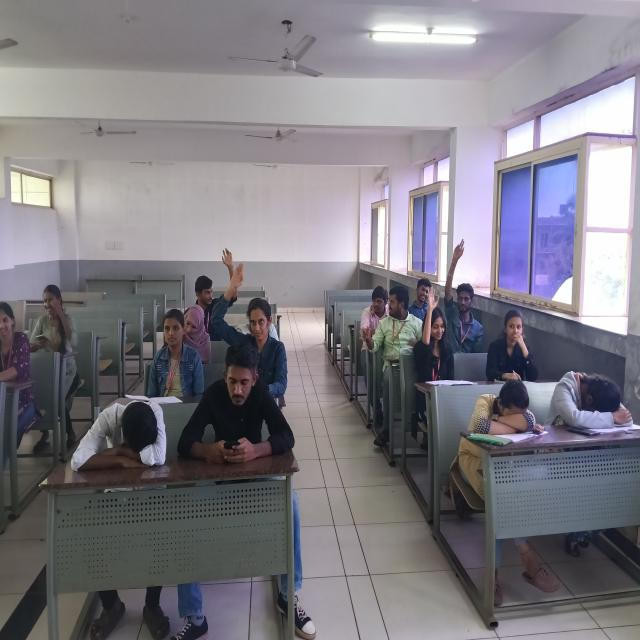Hand Rising: (212, 258, 288, 380), (189, 245, 238, 334), (442, 236, 481, 340), (416, 280, 456, 370)
Sleeping: (66, 388, 173, 474), (458, 371, 549, 466), (542, 362, 640, 442)
Using Phone: (176, 342, 297, 467), (24, 283, 81, 363)
Writing: (483, 306, 537, 384), (177, 300, 217, 366)
